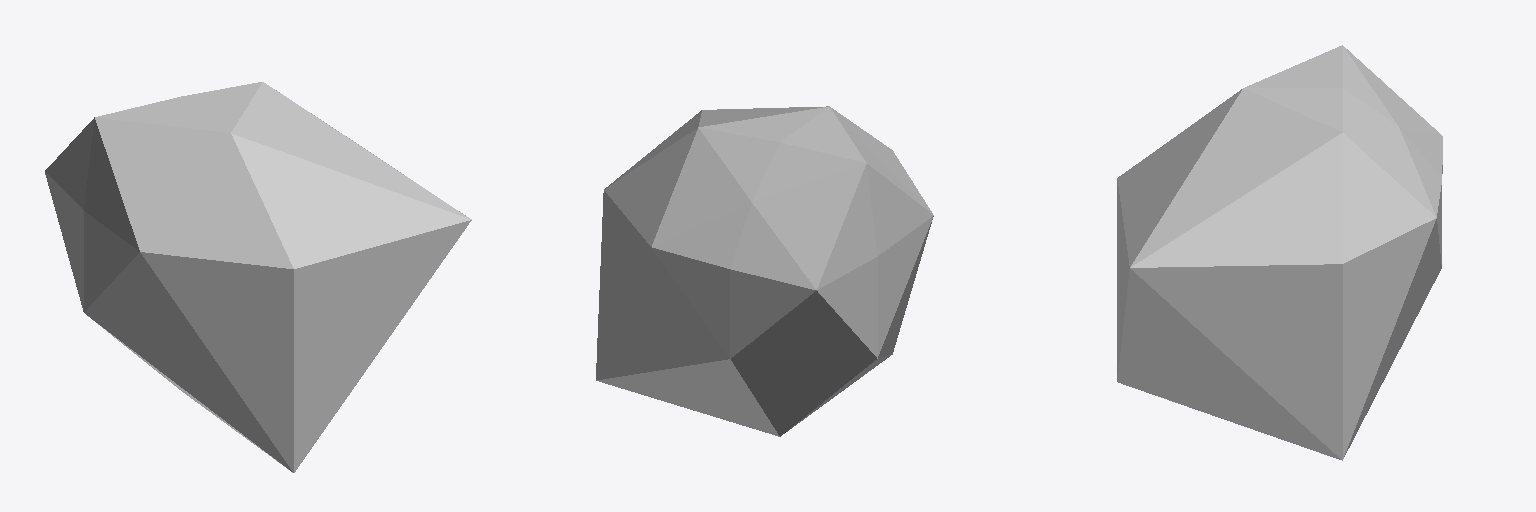
The model's file is 003_bundleplot_basic-bundle.obj.
The picture shows the model from 3 angles: view 1: azimuth 30°, elevation 25°; view 2: azimuth 150°, elevation 25°; view 3: azimuth 270°, elevation 25°; orthographic projection.
Parts seen in each view (by area): view 1: surf_1; view 2: surf_1; view 3: surf_1.
Boxes of the visible parts, <box> form: surf_1: <box>45,82,471,472</box>; surf_1: <box>596,106,933,436</box>; surf_1: <box>1117,45,1442,460</box>.
Size of the model in its own units: 2.3 by 2.3 by 2.3.